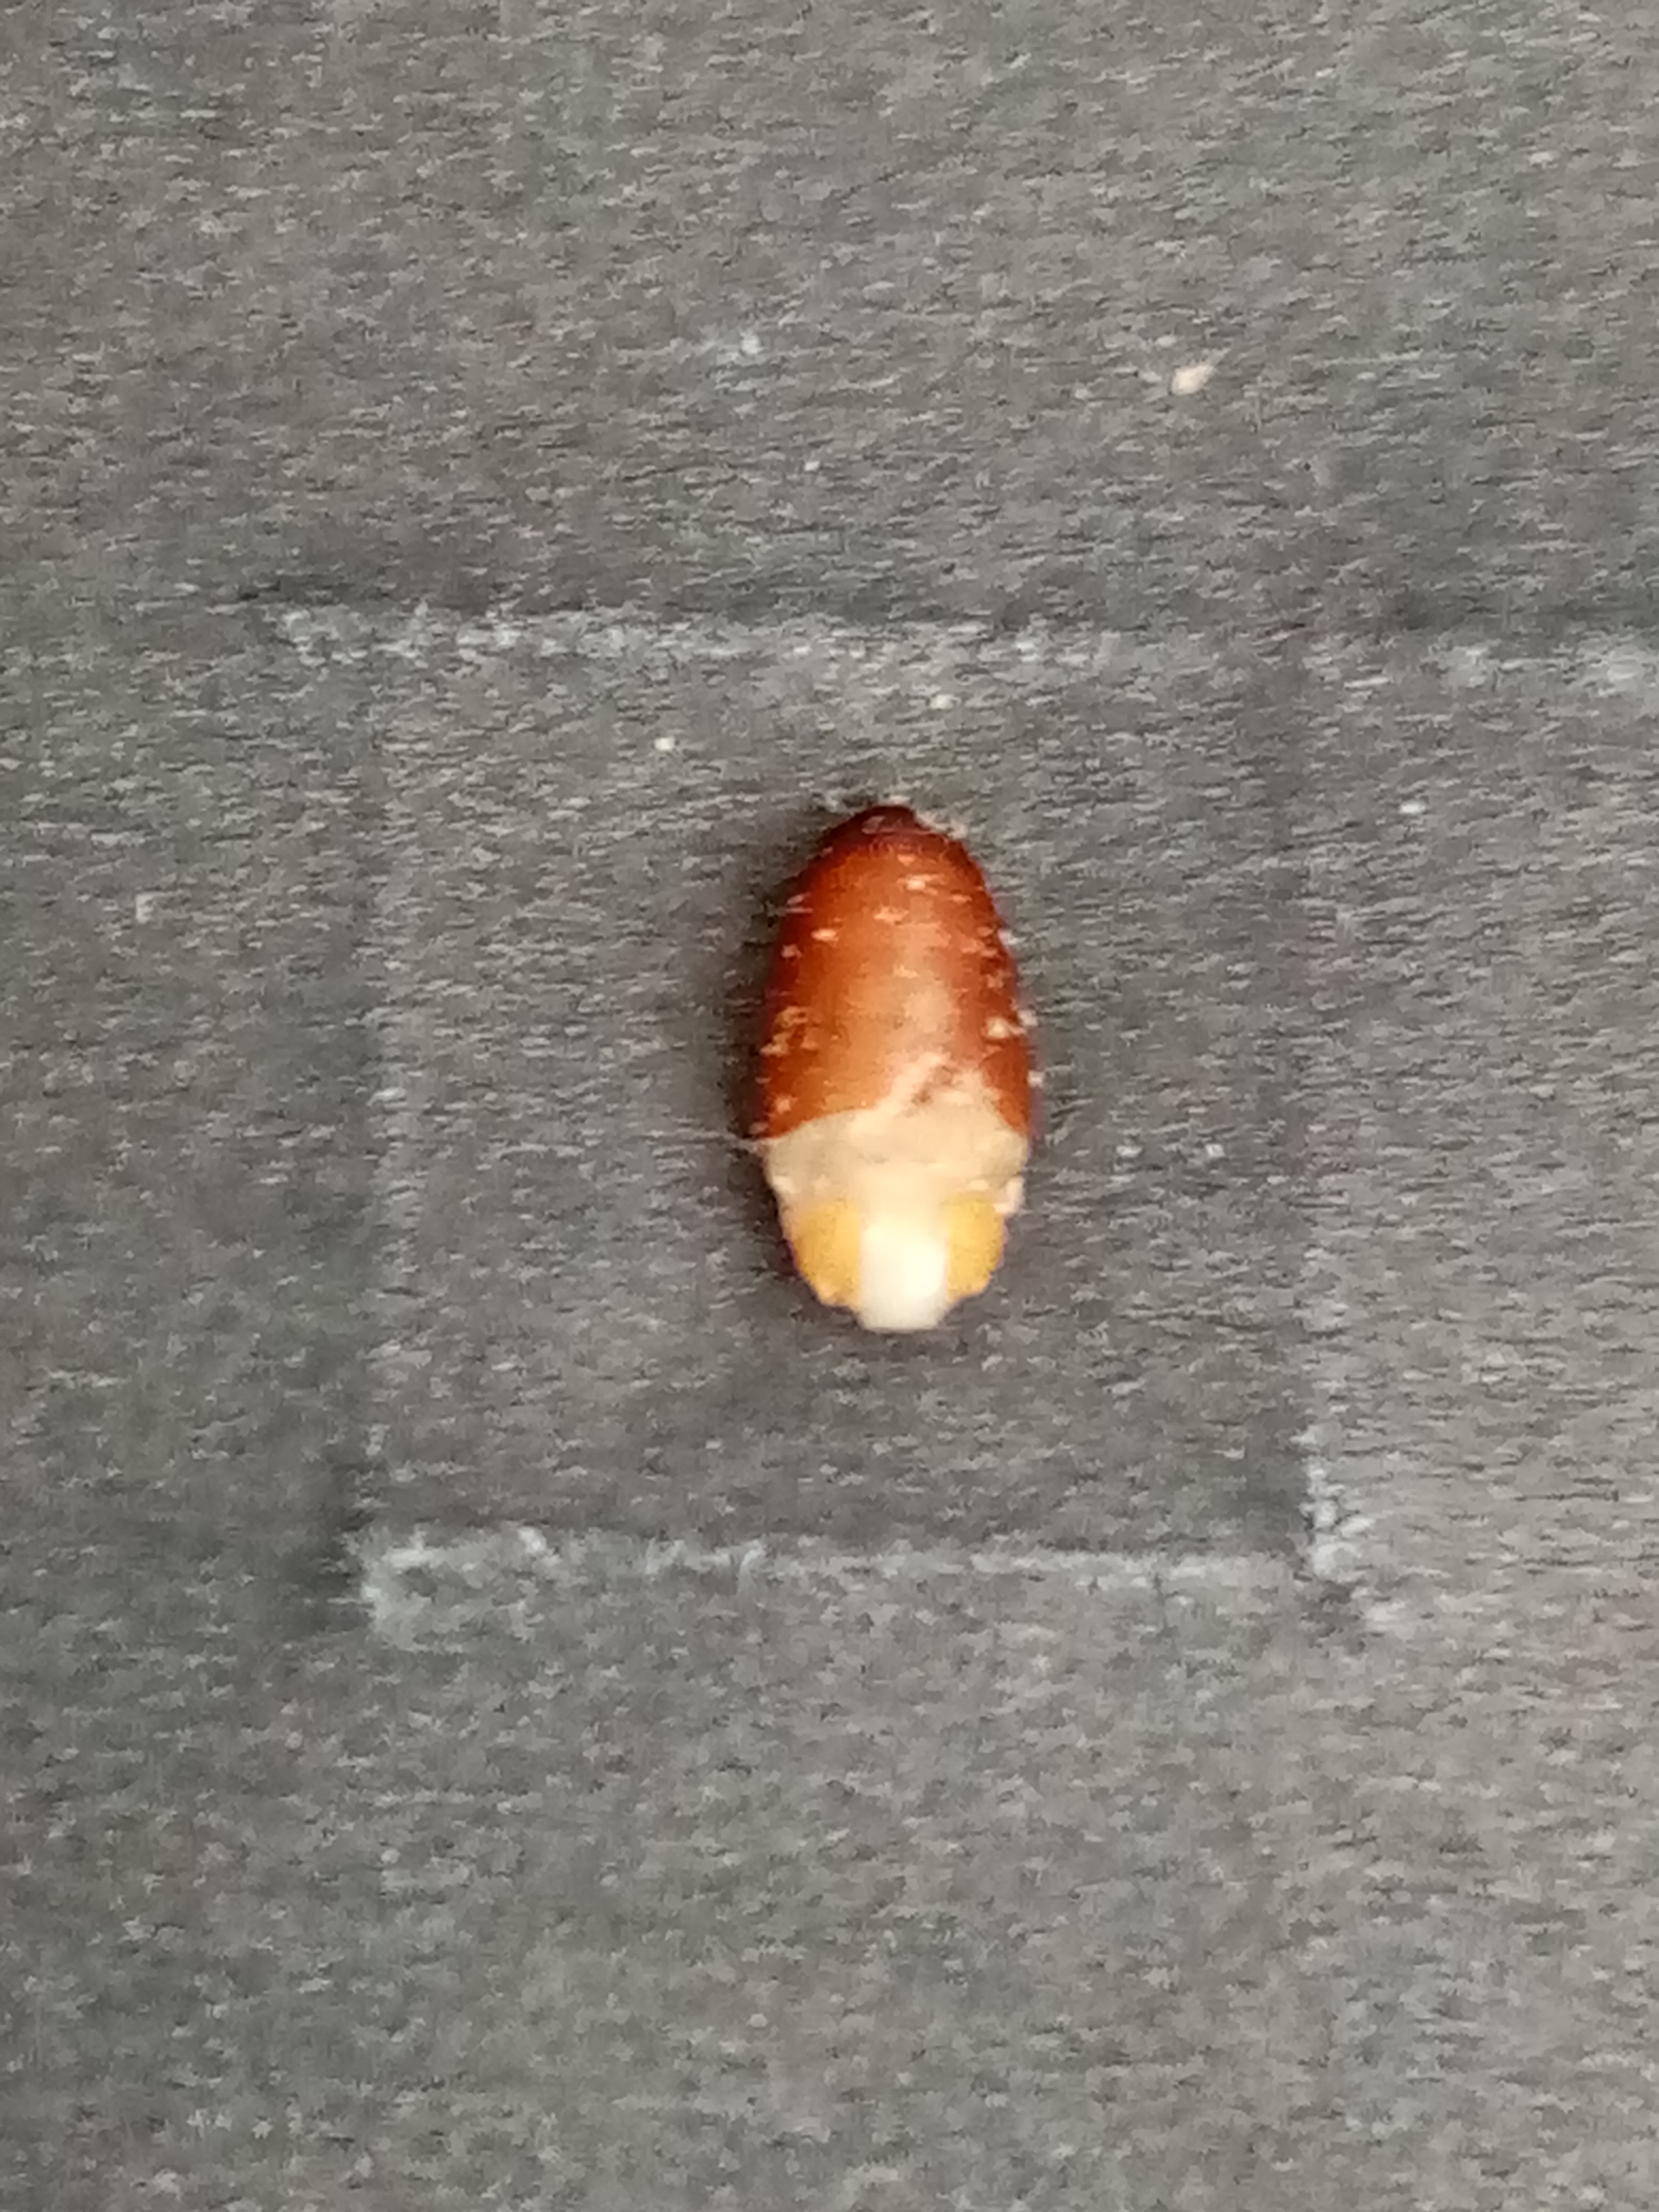pupa: (777, 1179, 1026, 1339)
